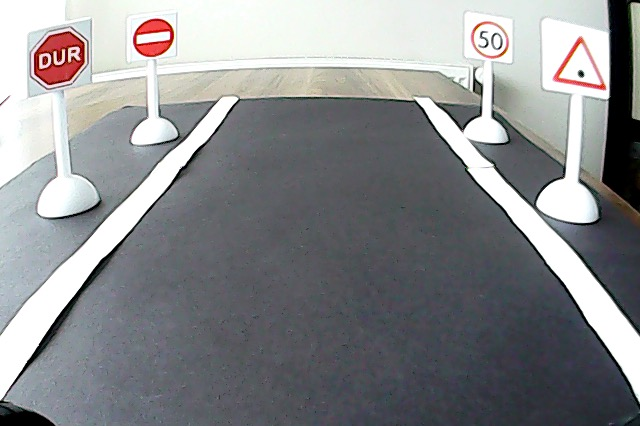do not enter: (129, 16, 177, 60)
green light: (550, 29, 608, 95)
speed limit 50: (467, 17, 513, 61)
stop sign: (27, 25, 92, 91)
